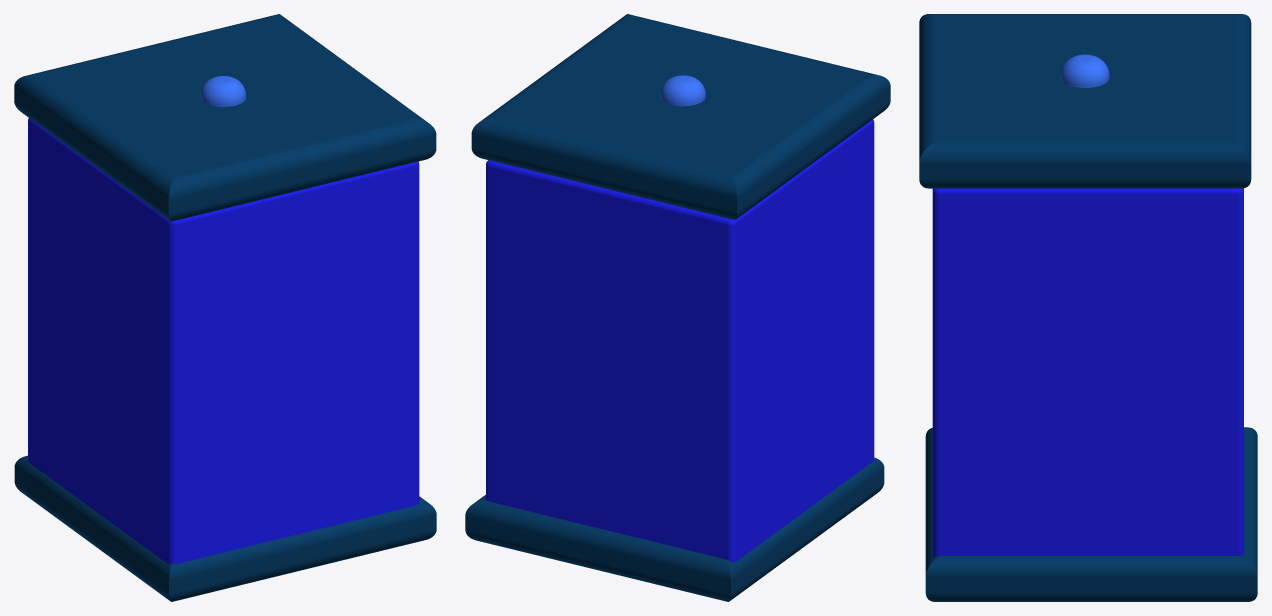
File: tardis.gltf
3 renders of one model, left to right at view 1: azimuth 30°, elevation 25°; view 2: azimuth 150°, elevation 25°; view 3: azimuth 270°, elevation 25°, orthographic. The views are drawn at different scales.
Visible parts, largest first — view 1: Glass Box, Rectangle (×2), Roundel; view 2: Glass Box, Rectangle (×2), Roundel; view 3: Glass Box, Rectangle (×2), Roundel.
Boxes of the visible parts, x1,y1,x2,y2 form: Glass Box: (28,118,419,564); Rectangle (×2): (14,14,436,601); Roundel: (200,76,246,106); Glass Box: (486,119,874,562); Rectangle (×2): (465,14,890,601); Roundel: (660,75,705,106); Glass Box: (932,188,1243,556); Rectangle (×2): (919,14,1257,601); Roundel: (1060,54,1109,87).
Size of the model in its own units: 4.05 by 6.33 by 4.08.
